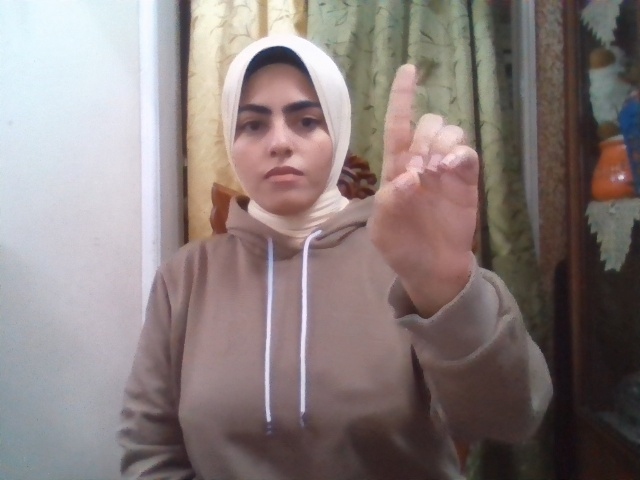D: (367, 64, 478, 289)
